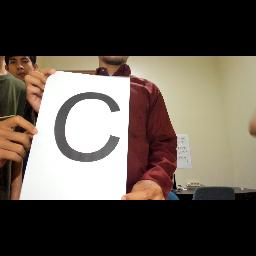c: (52, 90, 122, 164)
